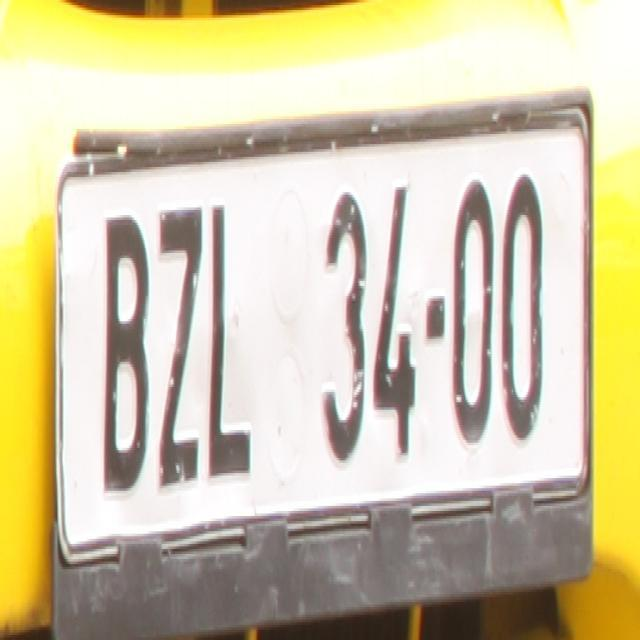0: (500, 172, 545, 448), (452, 180, 492, 450)
3: (317, 182, 370, 455)
4: (373, 179, 421, 458)
B: (100, 210, 150, 491)
L: (208, 200, 252, 473)
Z: (157, 204, 200, 493)
